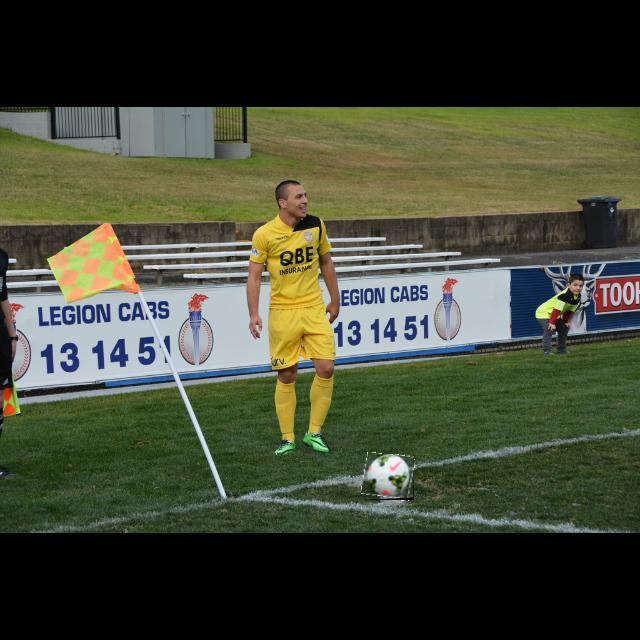Football: (362, 454, 414, 500)
